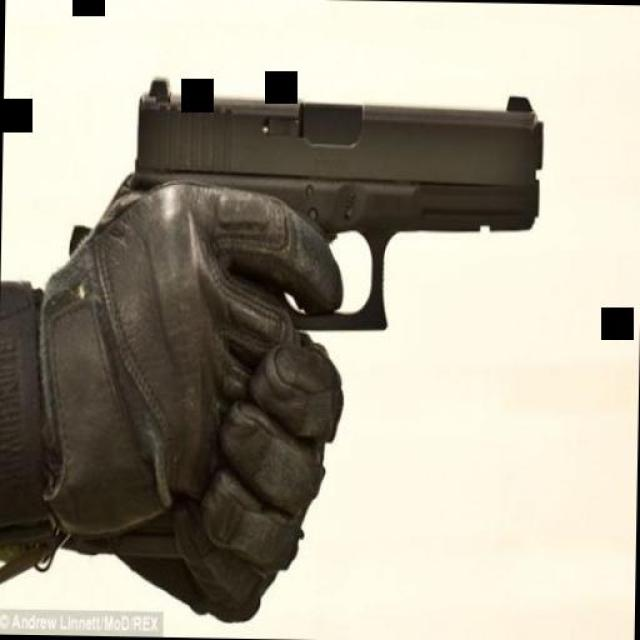gun: (124, 66, 546, 330)
